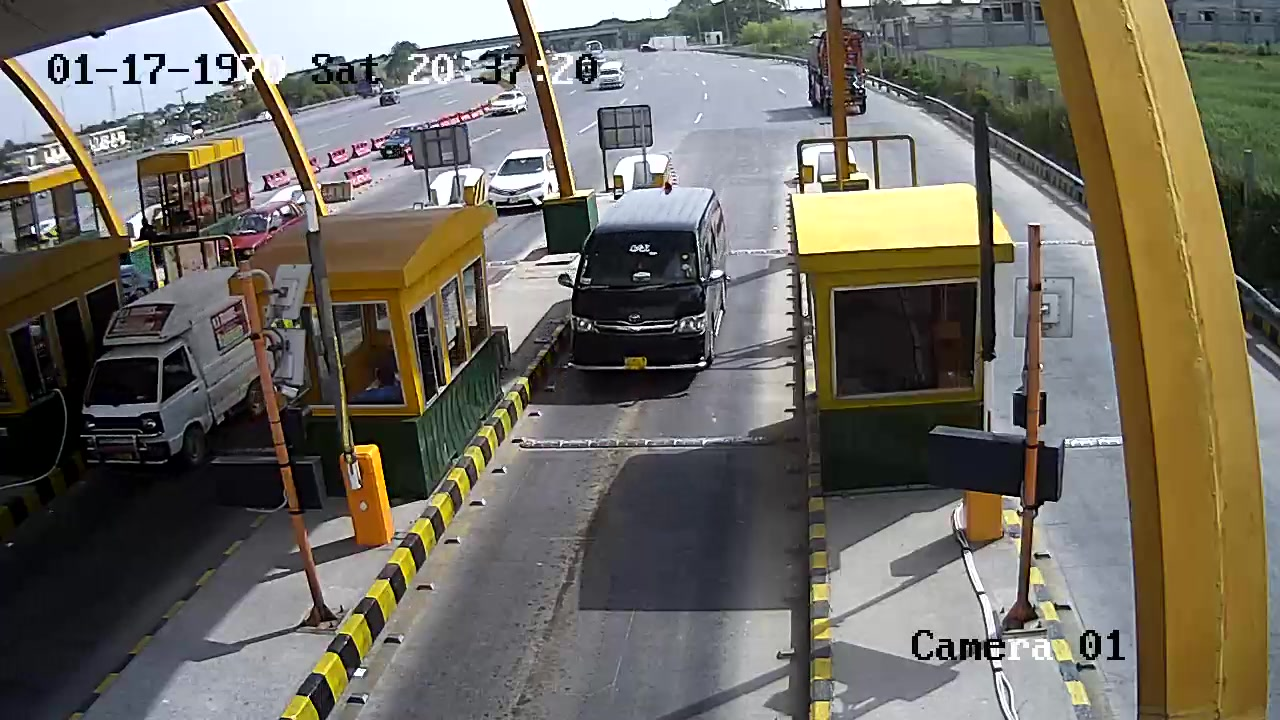F2: (543, 176, 746, 391)
